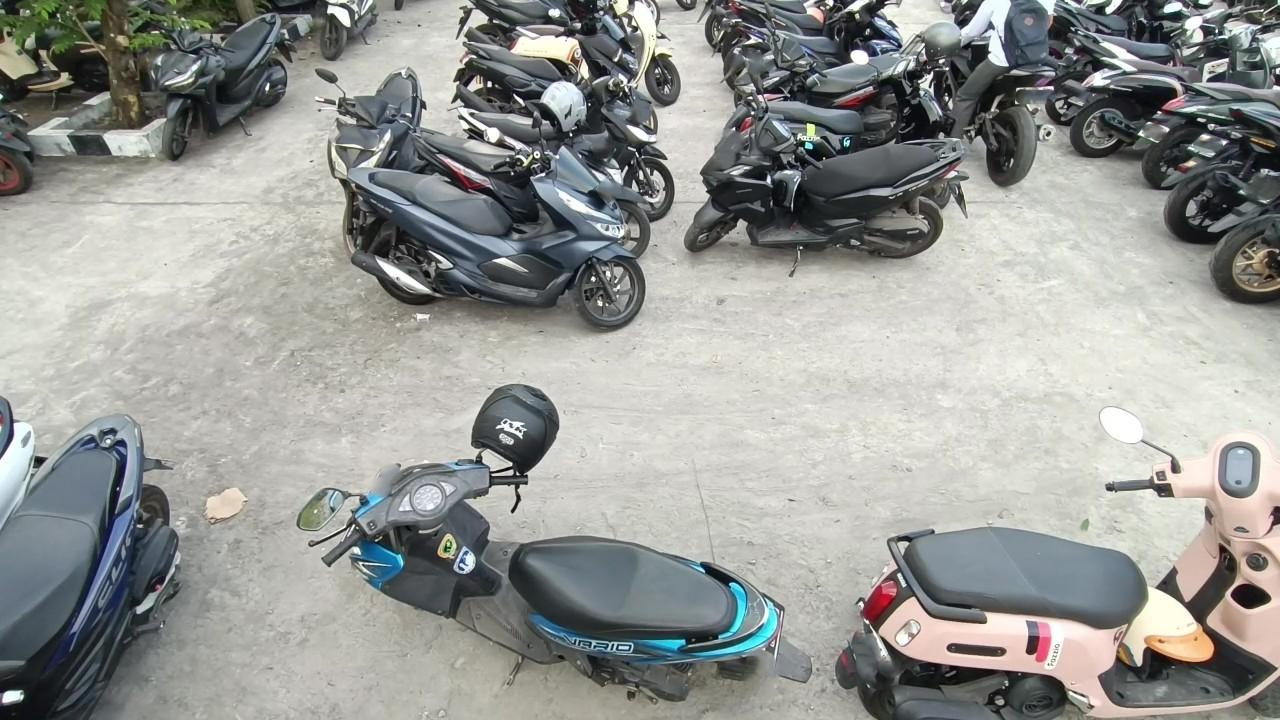motorcycle: (303, 386, 806, 713), (840, 400, 1280, 720), (349, 123, 656, 330), (0, 413, 191, 720), (693, 87, 964, 266), (403, 83, 653, 268), (446, 1, 659, 154), (1066, 10, 1280, 157), (139, 6, 291, 162), (941, 6, 1062, 187), (317, 66, 428, 235)
